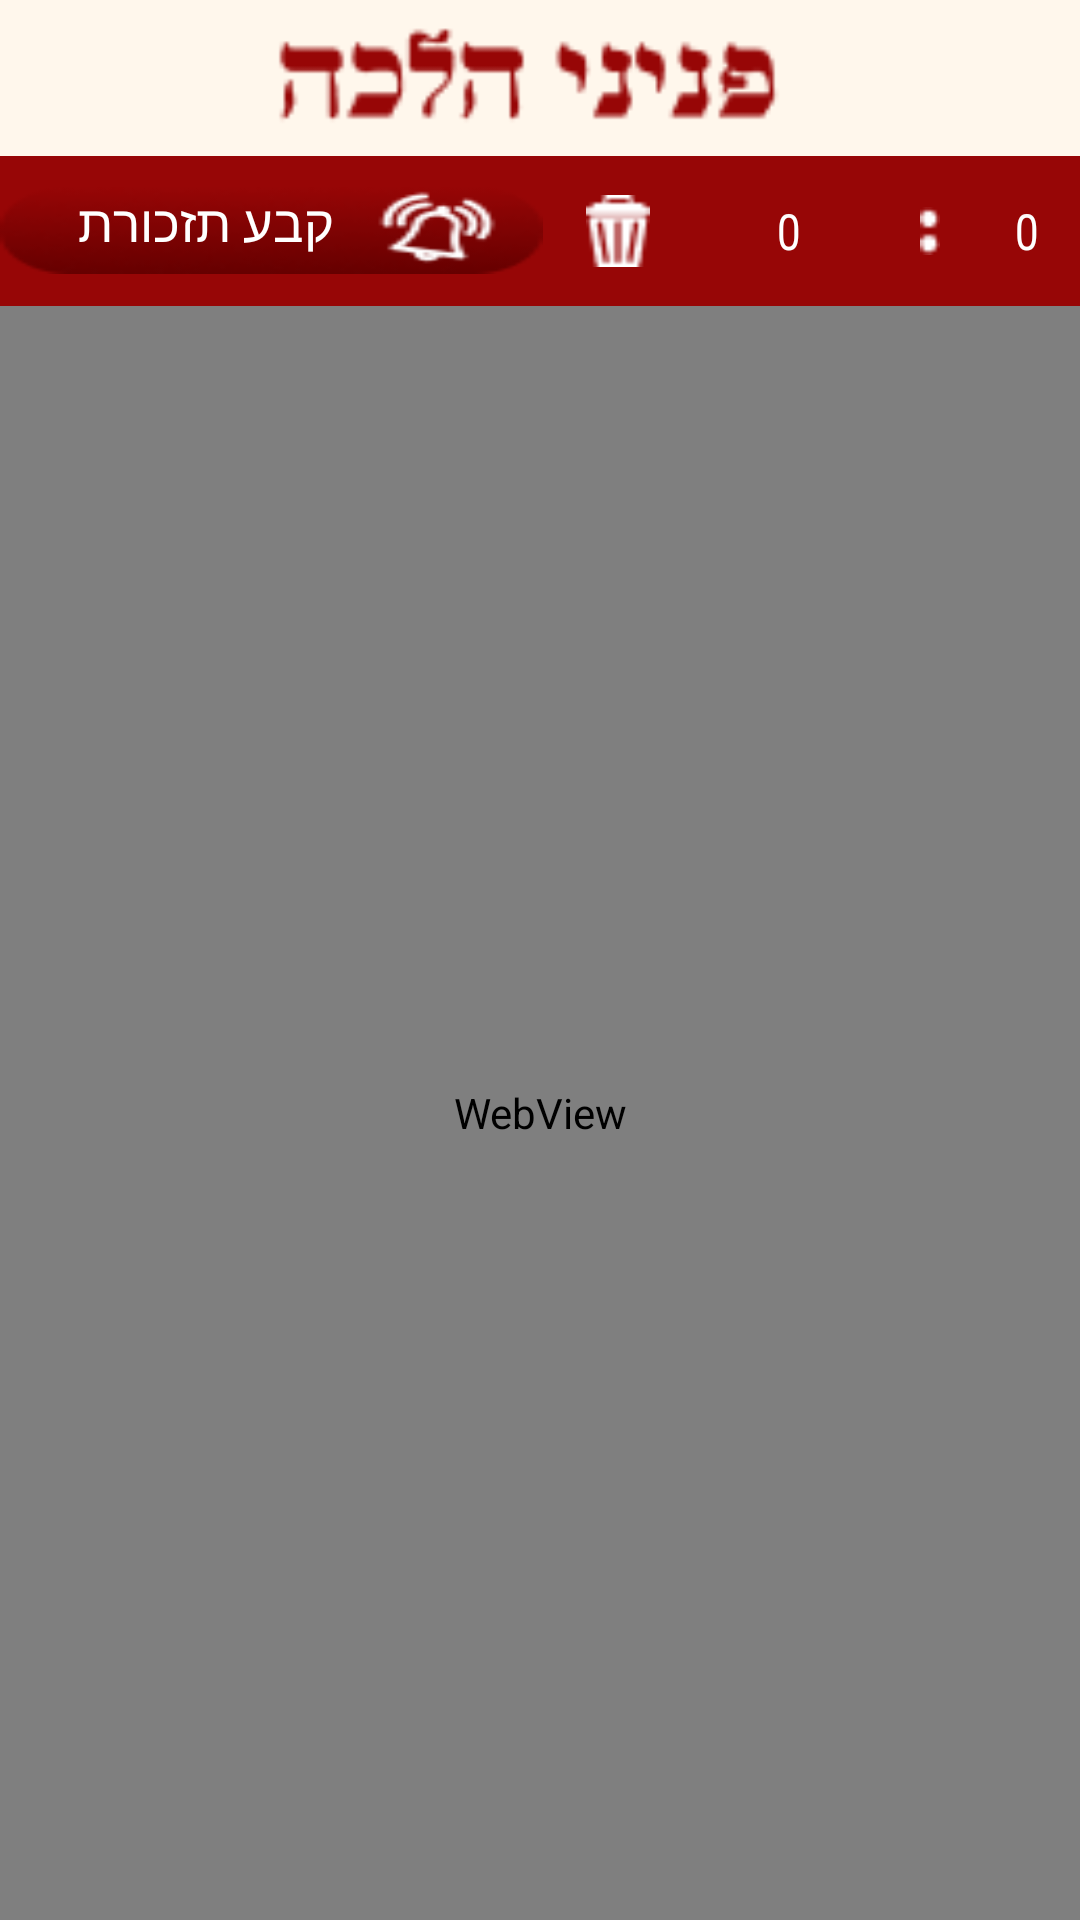

Icon click points for this 1080w x 1920h phone screenshot, format point (x, y):
delete reminder: point (618, 231)
